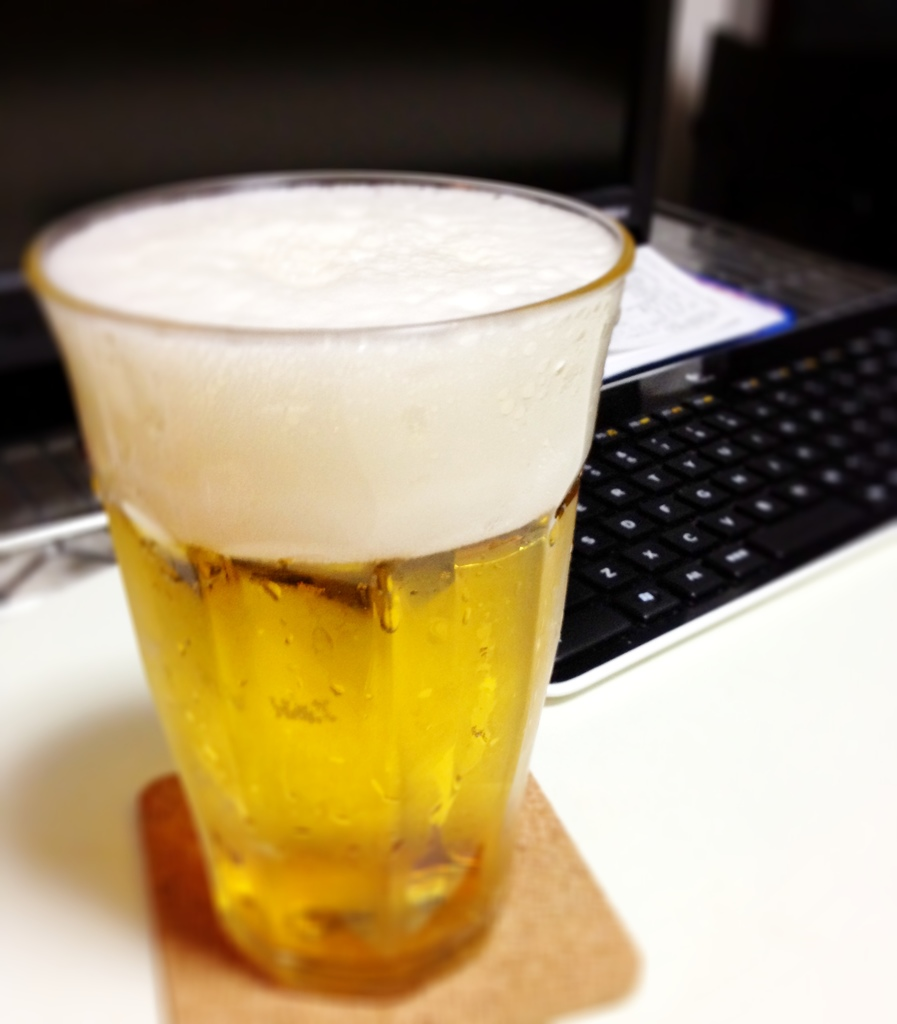Beer: (13, 168, 636, 1006)
